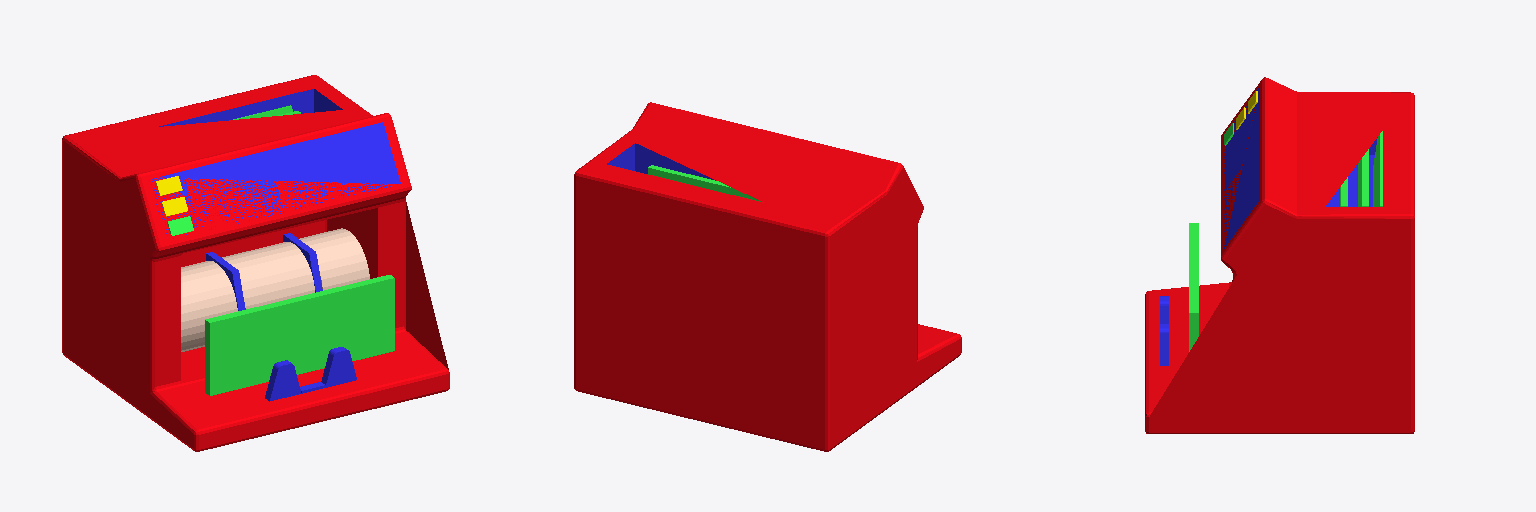
The model's file is 1801-moneymachine_6.obj.
The picture shows the model from 3 angles: view 1: azimuth 30°, elevation 25°; view 2: azimuth 150°, elevation 25°; view 3: azimuth 270°, elevation 25°; orthographic projection.
Parts seen in each view (by area): view 1: Cube.079_Material.010, Cube.079_Material.002, Cube.079_Material.017, Cube.079_Material.015, Cube.079_Material; view 2: Cube.079_Material.010, Cube.079_Material.017, Cube.079_Material.002; view 3: Cube.079_Material.010, Cube.079_Material.017, Cube.079_Material.002.
Part boxes in pixels (x1,y1,x2,y2): Cube.079_Material.010: (62, 75, 449, 451); Cube.079_Material.002: (167, 105, 394, 395); Cube.079_Material.017: (149, 89, 400, 401); Cube.079_Material.015: (181, 228, 369, 351); Cube.079_Material: (155, 176, 187, 216); Cube.079_Material.010: (574, 102, 961, 451); Cube.079_Material.017: (607, 143, 715, 180); Cube.079_Material.002: (648, 165, 763, 202); Cube.079_Material.010: (1145, 77, 1414, 433); Cube.079_Material.017: (1160, 86, 1377, 365); Cube.079_Material.002: (1189, 123, 1382, 351).
Bounding box in the file's own units: 13.16 × 11.57 × 12.03.